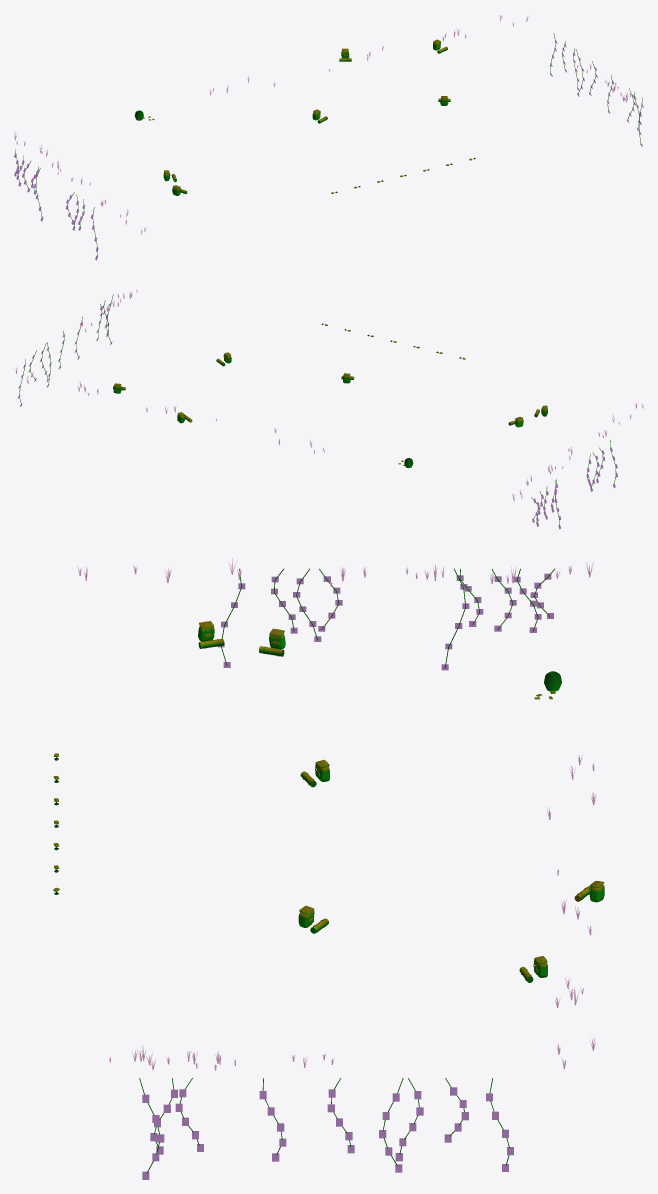
Rendered from iskarra_vigil_dressing.glb.
3 renders of one model, top to bottom at view 1: azimuth 30°, elevation 25°; view 2: azimuth 150°, elevation 25°; view 3: azimuth 270°, elevation 25°, orthographic. The views are drawn at different scales.
Visible parts, largest first — view 1: iskarra_vigil_dressing; view 2: iskarra_vigil_dressing; view 3: iskarra_vigil_dressing.
Boxes of the visible parts, x1,y1,x2,y2 form: iskarra_vigil_dressing: (14, 15, 643, 260); iskarra_vigil_dressing: (14, 290, 643, 529); iskarra_vigil_dressing: (53, 558, 604, 1179).
Size of what is drawn, in the model's own units: 34.49 by 4.56 by 15.61.
